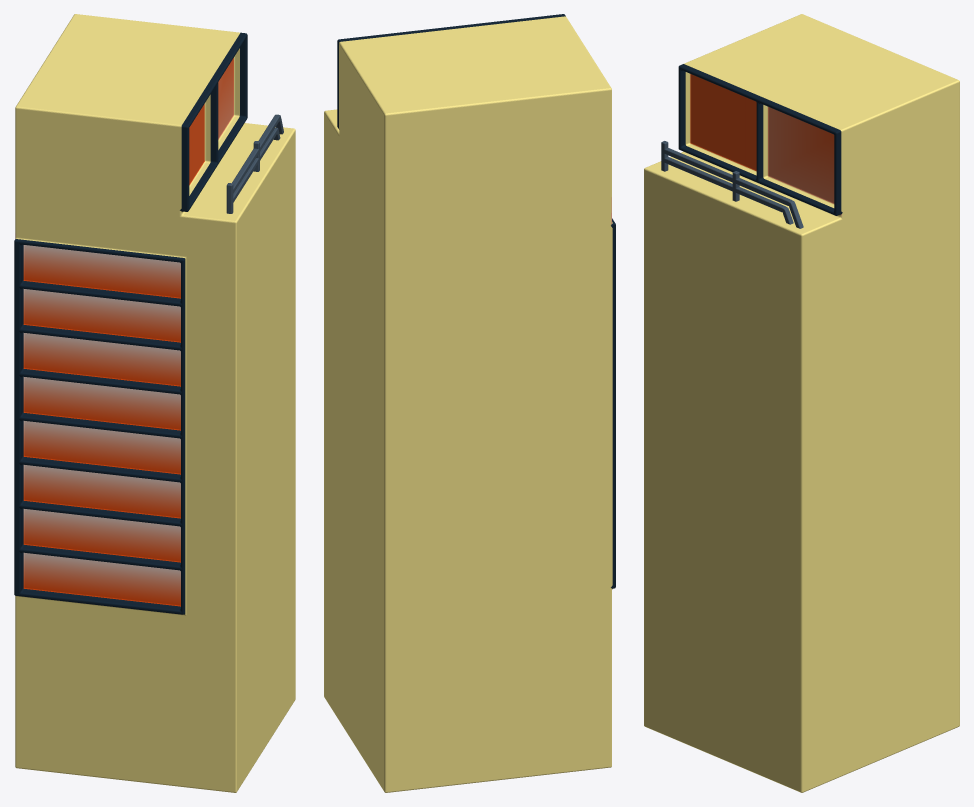
Rendered from EdificioRelleno.fbx.
3 views of the same model, side by side, from view 1: azimuth 30°, elevation 25°; view 2: azimuth 150°, elevation 25°; view 3: azimuth 270°, elevation 25° (orthographic). The views are drawn at different scales.
Parts seen in each view (by area): view 1: edificio5; view 2: edificio5; view 3: edificio5.
Boxes of the visible parts, <box> form: edificio5: <box>14,14,295,792</box>; edificio5: <box>324,14,615,792</box>; edificio5: <box>644,14,959,792</box>.
Size of the model in its own units: 537 by 1203 by 533.
1 material, 1 textured.
